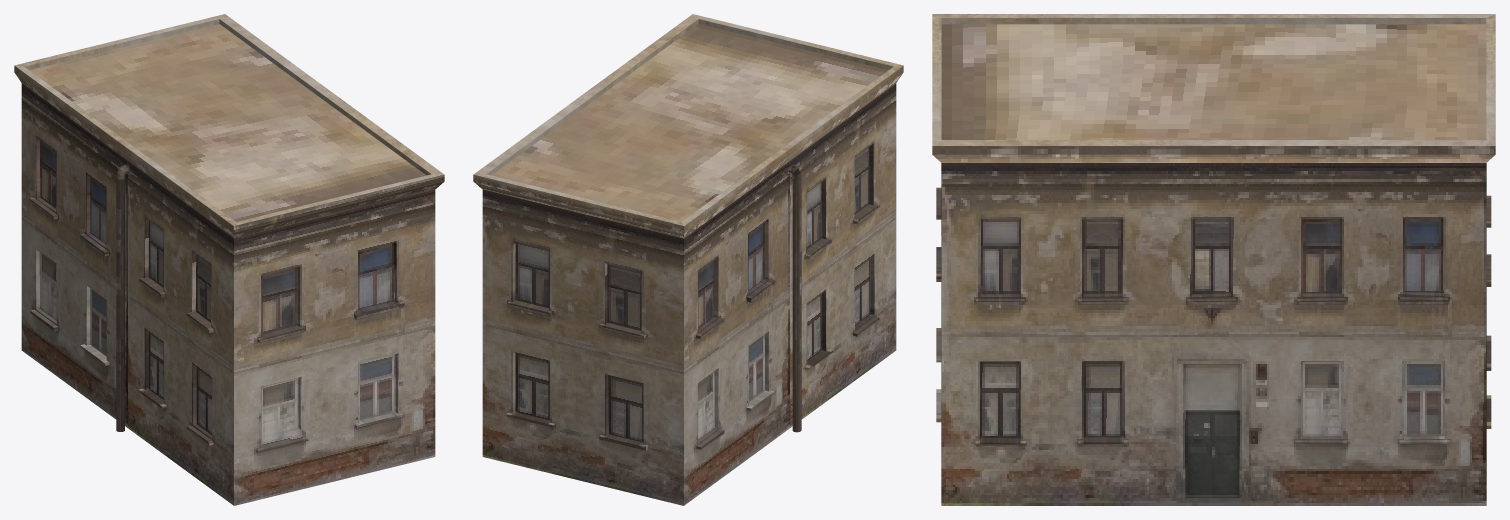
Rendered from casa_abandonada_2.glb.
The picture shows the model from 3 angles, left to right: view 1: azimuth 30°, elevation 25°; view 2: azimuth 150°, elevation 25°; view 3: azimuth 270°, elevation 25°; orthographic projection. The views are drawn at different scales.
Visible parts, largest first — view 1: casa_house; view 2: casa_house; view 3: casa_house.
Part boxes in pixels (x1,y1,x2,y2): casa_house: [14, 14, 444, 505]; casa_house: [473, 14, 903, 505]; casa_house: [932, 14, 1495, 505].
Size of the model in its own units: 7.19 by 8.94 by 12.53.
Materials: 1 (1 with a texture image).
